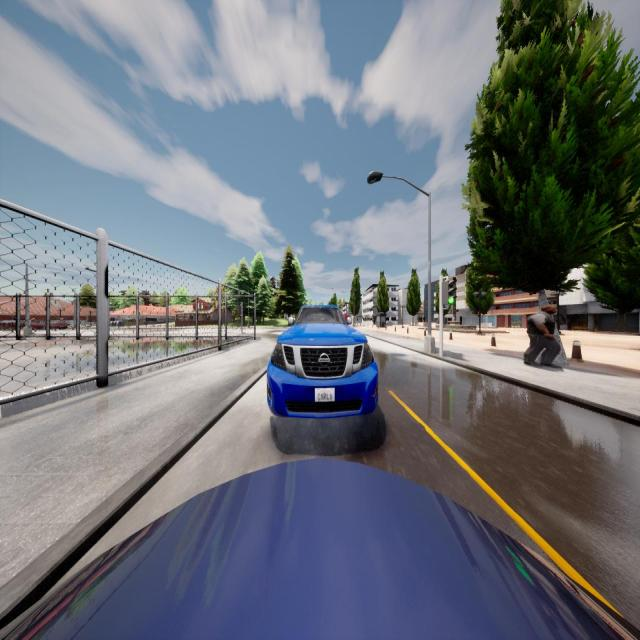Pedestrian: (524, 304, 560, 366)
Vehicle: (0, 459, 640, 640), (266, 306, 378, 418), (30, 319, 70, 329)
traffic_light: (443, 280, 455, 306), (238, 306, 241, 314)
